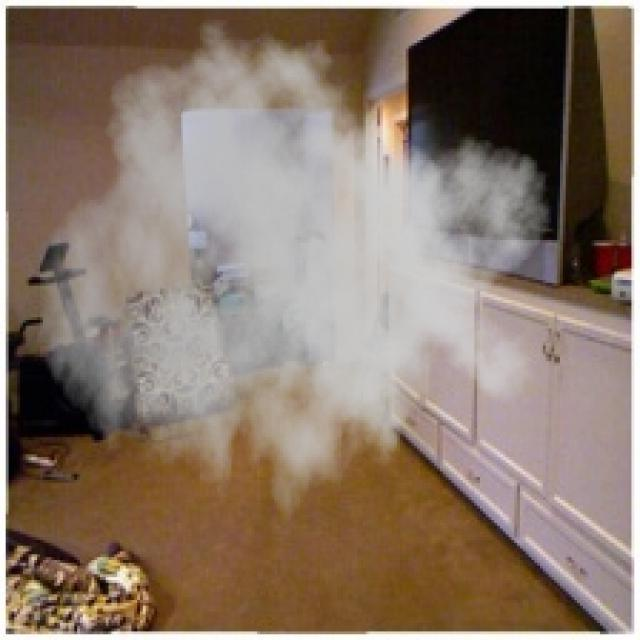smoke: (37, 6, 554, 546)
